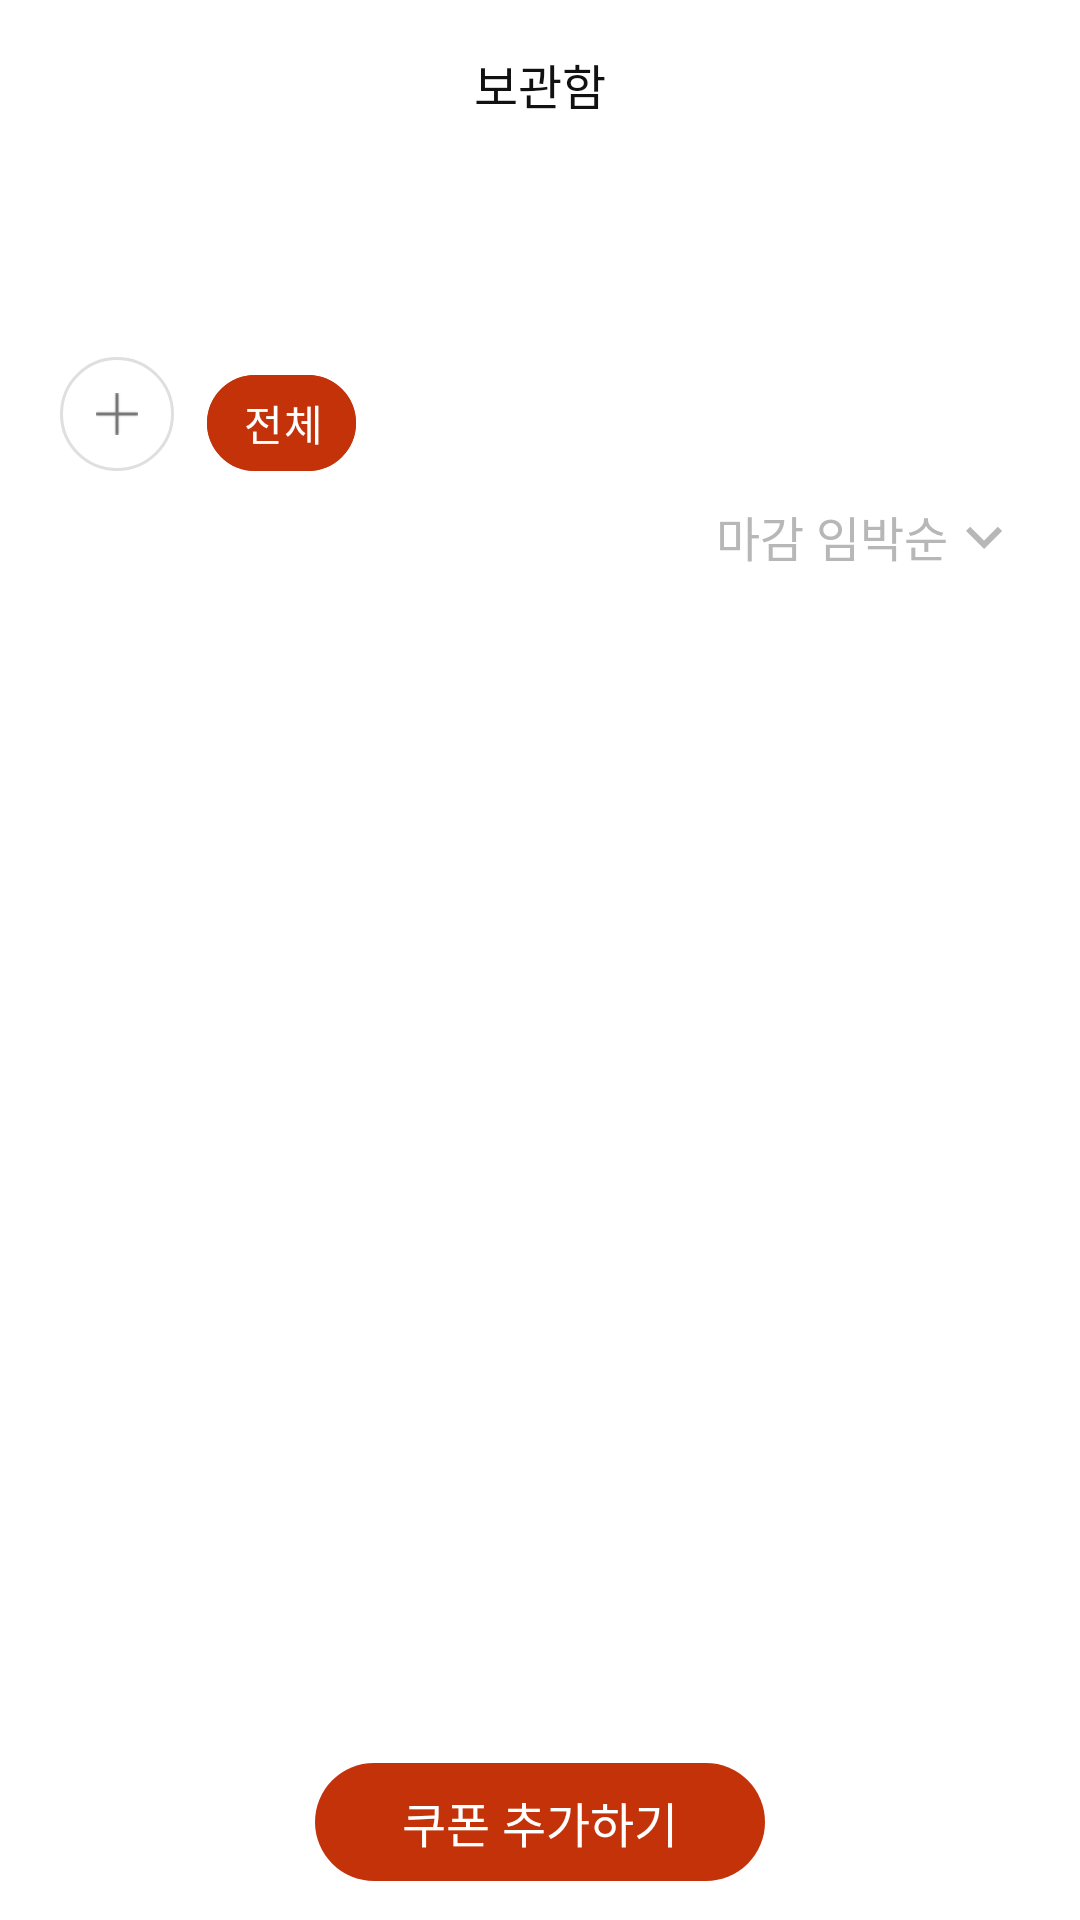

Named icons in this screenshot (1080 x 1920) and their centers, (x,y):
add: (117,414)
